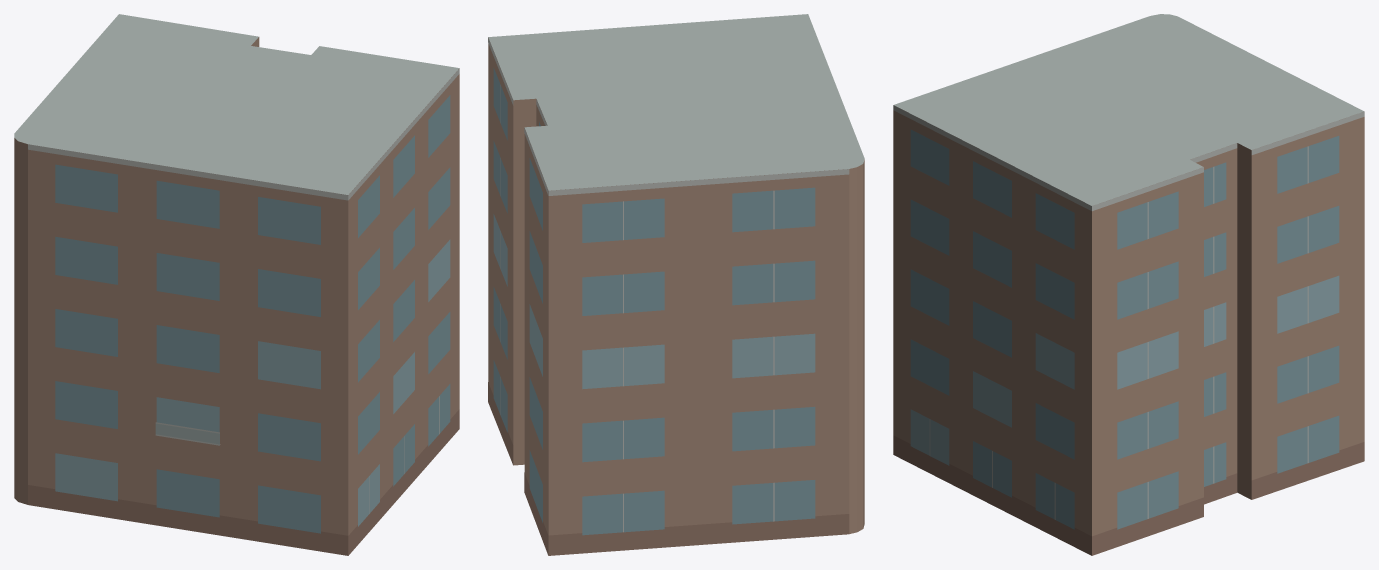
Rendered from survey-upis-32843168.glb.
The picture shows the model from 3 angles, left to right: view 1: azimuth 30°, elevation 25°; view 2: azimuth 150°, elevation 25°; view 3: azimuth 270°, elevation 25°; orthographic projection. The views are drawn at different scales.
Parts seen in each view (by area): view 1: survey-upis-32843168.tmp; view 2: survey-upis-32843168.tmp; view 3: survey-upis-32843168.tmp.
Part boxes in pixels (box(x1,y1,x2,y2)): survey-upis-32843168.tmp: box(14, 14, 459, 555); survey-upis-32843168.tmp: box(488, 14, 864, 555); survey-upis-32843168.tmp: box(893, 14, 1364, 555).
Bounding box in the file's own units: 19.11 × 16.22 × 19.8.
